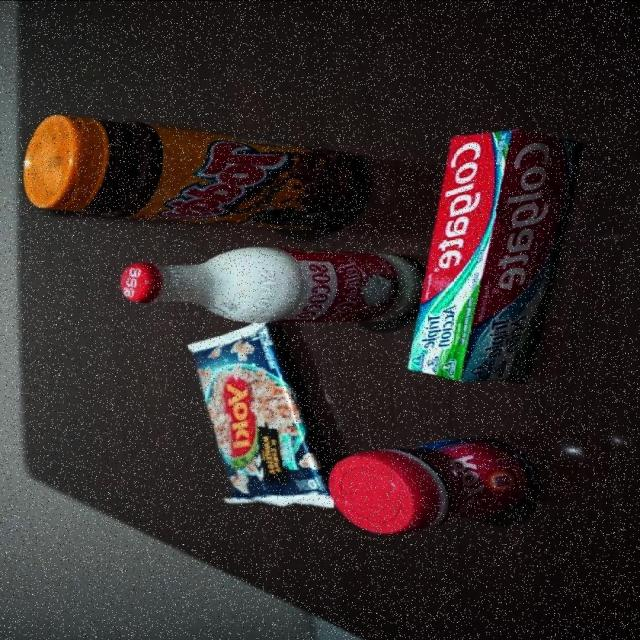ChocolatePowder: (21, 111, 376, 234)
CoconutMilk: (117, 244, 425, 327)
Popcorn: (184, 318, 342, 510)
Toothpaste: (404, 125, 583, 383)
Yeast: (327, 435, 547, 535)
